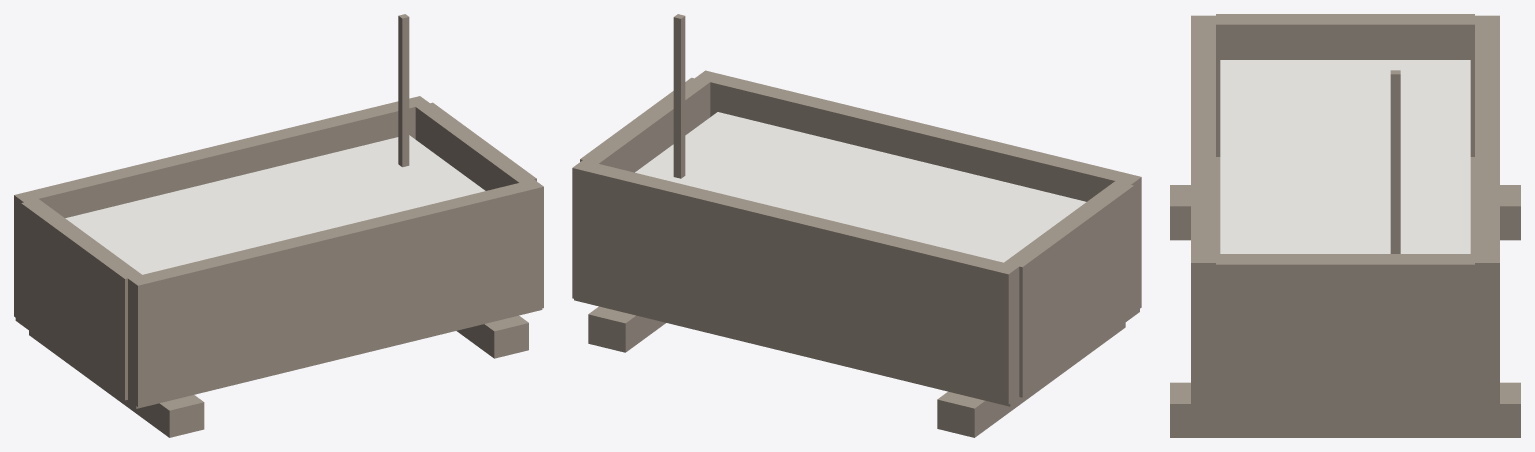
The model's file is prop-slaking-trough-small.fbx.
3 views of the same model, side by side, from view 1: azimuth 30°, elevation 25°; view 2: azimuth 150°, elevation 25°; view 3: azimuth 270°, elevation 25° (orthographic). The views are drawn at different scales.
Visible parts, largest first — view 1: prop-slaking-trough-small; view 2: prop-slaking-trough-small; view 3: prop-slaking-trough-small.
Boxes of the visible parts, x1,y1,x2,y2 form: prop-slaking-trough-small: [14, 14, 543, 437]; prop-slaking-trough-small: [572, 14, 1141, 437]; prop-slaking-trough-small: [1170, 14, 1520, 437].
Bounding box in the file's own units: 71 × 45.5 × 42.
